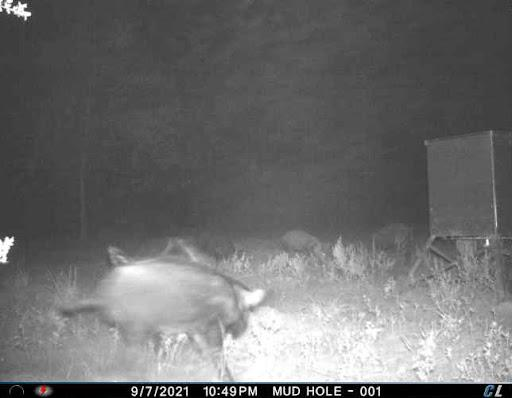Hog: (63, 259, 260, 375), (363, 221, 413, 265), (276, 227, 328, 269)
